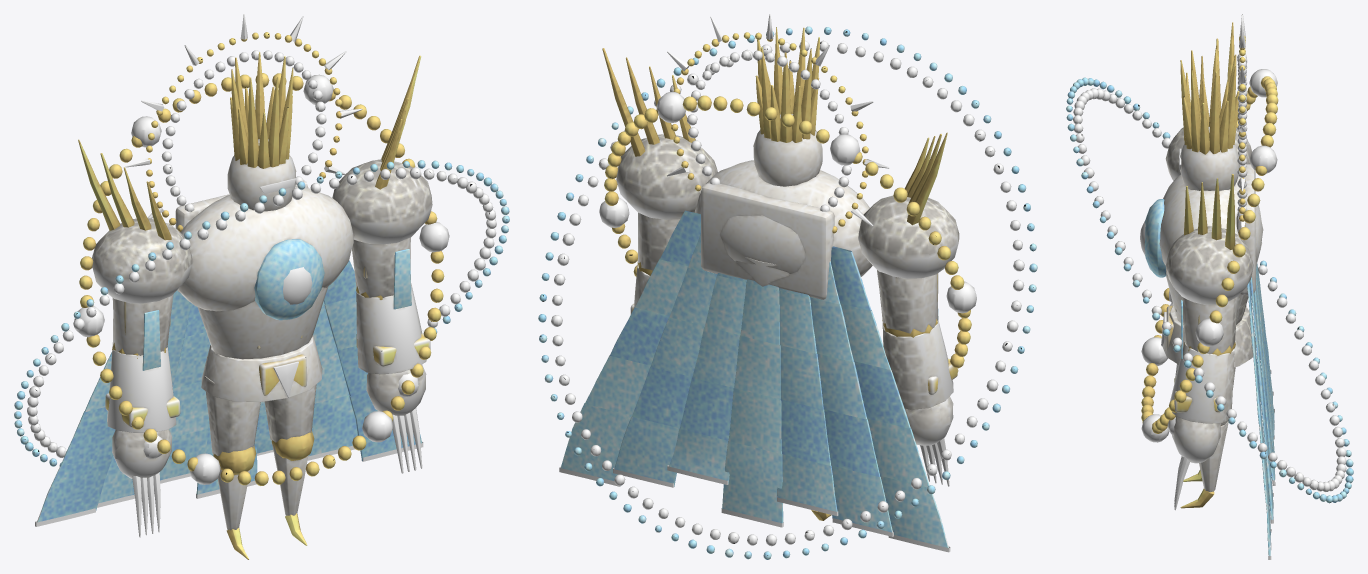
File: Astraeon.glb
The picture shows the model from 3 angles, left to right: view 1: azimuth 30°, elevation 25°; view 2: azimuth 150°, elevation 25°; view 3: azimuth 270°, elevation 25°; orthographic projection. The views are drawn at different scales.
Parts seen in each view (by area): view 1: Astraeon_spine, Astraeon_ringA, Astraeon_upperArmR, Astraeon_upperArmL, Astraeon_ringB, Astraeon_head, Astraeon_lowerArmL, Astraeon_lowerArmR, Astraeon_halo, Astraeon_hips, Astraeon_handR, Astraeon_upperLegR (+19 smaller); view 2: Astraeon_spine, Astraeon_ringB, Astraeon_upperArmR, Astraeon_upperArmL, Astraeon_ringA, Astraeon_head, Astraeon_halo, Astraeon_lowerArmR, Astraeon_capeD5, Astraeon_capeG5, Astraeon_capeF5, Astraeon_capeA5 (+27 smaller); view 3: Astraeon_ringB, Astraeon_upperArmL, Astraeon_ringA, Astraeon_head, Astraeon_spine, Astraeon_lowerArmL, Astraeon_handL, Astraeon_halo, Astraeon_hips, Astraeon_upperArmR, Astraeon_lowerLegL.
Part boxes in pixels (box(x1,y1,x2,y2)): Astraeon_spine: box(175, 179, 354, 359); Astraeon_ringA: box(74, 73, 449, 485); Astraeon_upperArmR: box(78, 139, 192, 358); Astraeon_upperArmL: box(332, 55, 432, 299); Astraeon_ringB: box(14, 160, 509, 466); Astraeon_head: box(227, 52, 296, 211); Astraeon_lowerArmL: box(356, 249, 430, 374); Astraeon_lowerArmR: box(105, 310, 180, 432); Astraeon_halo: box(125, 14, 362, 231); Astraeon_hips: box(201, 335, 322, 401); Astraeon_handR: box(112, 429, 171, 537); Astraeon_upperLegR: box(204, 376, 260, 475); Astraeon_spine: box(695, 160, 872, 299); Astraeon_ringB: box(538, 26, 1037, 559); Astraeon_upperArmR: box(858, 132, 959, 337); Astraeon_upperArmL: box(602, 48, 717, 275); Astraeon_ringA: box(599, 92, 976, 372); Astraeon_head: box(753, 27, 822, 186); Astraeon_halo: box(656, 14, 889, 233); Astraeon_lowerArmR: box(882, 309, 957, 409); Astraeon_capeD5: box(721, 441, 783, 527); Astraeon_capeG5: box(559, 403, 631, 486); Astraeon_capeF5: box(613, 416, 679, 487); Astraeon_capeA5: box(880, 476, 950, 552); Astraeon_ringB: box(1066, 77, 1353, 503); Astraeon_upperArmL: box(1165, 174, 1253, 355); Astraeon_ringA: box(1141, 69, 1278, 442); Astraeon_head: box(1179, 48, 1239, 190); Astraeon_spine: box(1140, 164, 1263, 324); Astraeon_lowerArmL: box(1169, 300, 1234, 423); Astraeon_handL: box(1167, 416, 1220, 509); Astraeon_halo: box(1237, 14, 1247, 229); Astraeon_hips: box(1161, 305, 1256, 367); Astraeon_upperArmR: box(1165, 22, 1251, 180); Astraeon_lowerLegL: box(1199, 421, 1228, 492).
Size of the model in its own units: 5.18 by 5.41 by 3.
Materials: 1 (1 with a texture image).
